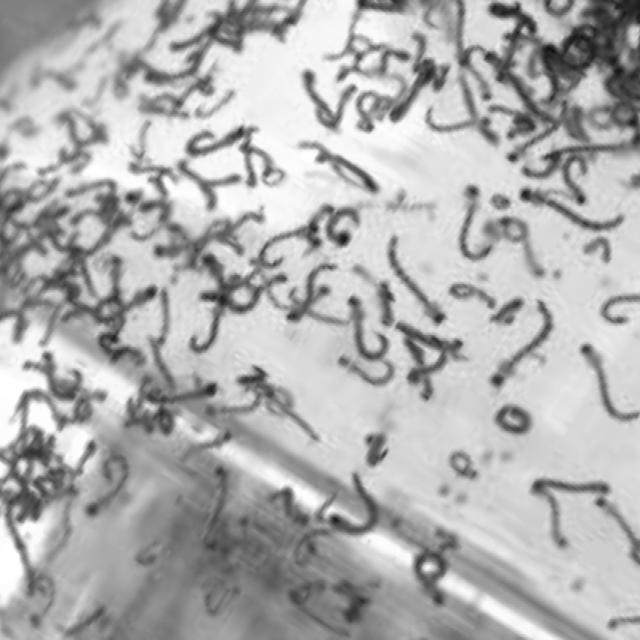larvas: (488, 298, 559, 402), (46, 438, 94, 565), (522, 180, 627, 236), (389, 237, 446, 321), (185, 247, 227, 359), (484, 51, 552, 119), (454, 0, 497, 104), (582, 343, 640, 420), (200, 271, 285, 316), (541, 130, 639, 166), (297, 137, 359, 191), (285, 258, 334, 326), (506, 107, 562, 165), (266, 386, 321, 445), (455, 75, 498, 146), (332, 472, 379, 533), (396, 318, 467, 358), (315, 148, 379, 192), (387, 65, 432, 126), (0, 224, 57, 272), (184, 119, 259, 155), (5, 505, 35, 595), (262, 272, 329, 312), (89, 455, 129, 519), (458, 186, 492, 261), (178, 154, 219, 214), (597, 496, 640, 550), (203, 464, 229, 553), (189, 230, 245, 269), (142, 0, 183, 53), (316, 83, 359, 130), (87, 212, 127, 261), (350, 297, 383, 356), (54, 111, 98, 154), (534, 486, 565, 546), (259, 223, 317, 255), (416, 548, 447, 606), (21, 270, 80, 300), (69, 103, 112, 144), (338, 356, 394, 386), (44, 353, 82, 397), (297, 600, 346, 634), (322, 29, 372, 62), (405, 353, 450, 389), (490, 0, 539, 33), (406, 343, 434, 399), (180, 432, 232, 462), (301, 75, 335, 119), (1, 449, 39, 488), (294, 527, 332, 565), (272, 0, 310, 38), (496, 27, 523, 80), (29, 575, 55, 630), (153, 382, 218, 404), (241, 14, 289, 43), (0, 445, 33, 487), (150, 55, 201, 82), (37, 264, 76, 299), (328, 206, 361, 247), (31, 393, 67, 430), (242, 138, 276, 176), (242, 518, 280, 552), (564, 154, 590, 202), (38, 302, 63, 351), (67, 604, 103, 638), (220, 264, 260, 294), (603, 291, 638, 325), (270, 490, 306, 523), (0, 198, 23, 249), (86, 22, 118, 58), (68, 298, 109, 326), (352, 37, 391, 66), (33, 200, 68, 232), (538, 478, 610, 493), (80, 75, 110, 111), (228, 204, 264, 234), (204, 396, 257, 416), (75, 386, 105, 420), (562, 36, 596, 66), (2, 492, 37, 521), (124, 377, 150, 416), (305, 307, 351, 329), (154, 236, 198, 259), (308, 207, 332, 249), (149, 340, 173, 380), (498, 407, 532, 435), (449, 283, 492, 305), (123, 283, 155, 312), (358, 87, 378, 133), (169, 28, 212, 49), (204, 584, 235, 613), (195, 94, 232, 118), (128, 121, 148, 163), (77, 257, 97, 299), (170, 220, 197, 251), (212, 28, 244, 54), (365, 431, 388, 467), (543, 44, 557, 103), (68, 180, 119, 196), (493, 297, 522, 325), (423, 118, 490, 130), (242, 136, 258, 186), (143, 104, 187, 122), (49, 234, 85, 256), (112, 346, 146, 369), (0, 311, 24, 343), (584, 235, 612, 262), (525, 242, 544, 281), (180, 82, 212, 105), (28, 178, 59, 201), (157, 289, 169, 348), (292, 580, 324, 602), (265, 388, 292, 414), (348, 11, 362, 60), (522, 159, 560, 177), (587, 104, 614, 129), (43, 70, 74, 91), (502, 217, 528, 242), (232, 272, 259, 296), (128, 162, 174, 176), (12, 117, 44, 137), (460, 42, 489, 64), (58, 150, 91, 169), (210, 6, 237, 29), (228, 546, 256, 568), (114, 64, 132, 98), (528, 44, 545, 80), (612, 99, 636, 124), (134, 540, 157, 566), (24, 227, 46, 254), (506, 117, 534, 138), (141, 199, 170, 219), (450, 452, 474, 476), (575, 102, 590, 139), (356, 0, 406, 11), (386, 75, 407, 101), (384, 50, 410, 71), (421, 0, 438, 32), (315, 494, 334, 522), (154, 405, 173, 433), (626, 62, 640, 100), (607, 615, 640, 631), (337, 67, 374, 81), (229, 0, 256, 19), (506, 31, 540, 46), (43, 485, 73, 502), (72, 210, 106, 225), (46, 456, 69, 478), (354, 264, 378, 285), (240, 365, 266, 384), (0, 188, 26, 207), (247, 4, 288, 16), (131, 227, 161, 243), (438, 527, 456, 553), (544, 0, 575, 15), (14, 427, 36, 448), (380, 285, 390, 331), (62, 305, 82, 328), (249, 257, 284, 270), (92, 300, 124, 314), (561, 99, 573, 136), (262, 166, 284, 186), (25, 294, 52, 310), (0, 161, 25, 178), (124, 420, 154, 434), (606, 70, 622, 96), (413, 33, 424, 70), (111, 257, 121, 297), (152, 180, 170, 202), (434, 65, 450, 89), (31, 434, 54, 450), (67, 16, 100, 27), (209, 172, 239, 184), (95, 334, 116, 350), (152, 94, 180, 106), (127, 189, 140, 214), (492, 192, 510, 210), (488, 104, 516, 115), (21, 394, 29, 432), (207, 217, 230, 230), (34, 477, 52, 493), (24, 357, 43, 372), (156, 1, 169, 22), (36, 166, 58, 173), (250, 164, 251, 167)
